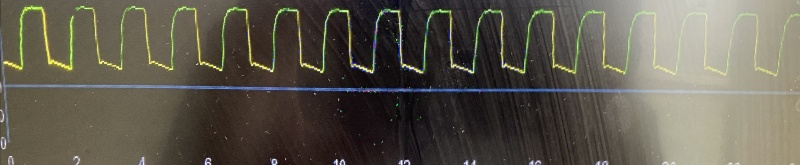normal_pressure: (0, 1, 785, 86)
